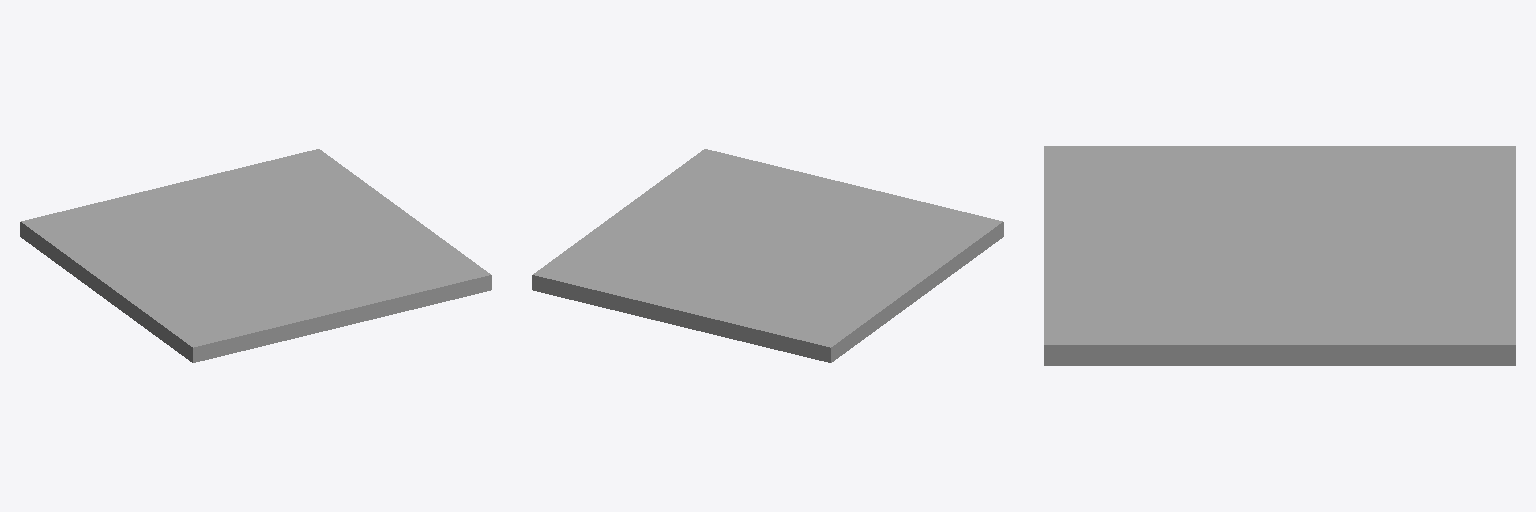
URDF robot description (panda):
<?xml version="1.0" ?>
<!-- =================================================================================== -->
<!-- |    This document was autogenerated by xacro from panda_two.urdf.xacro           | -->
<!-- |    EDITING THIS FILE BY HAND IS NOT RECOMMENDED                                 | -->
<!-- =================================================================================== -->
<robot name="panda">
  <!-- box shaped table as base for the 2 Pandas -->
  <link name="base">
    <visual>
      <origin rpy="0 0 0" xyz="0 0 0.05"/>
      <geometry>
        <box size="2 2 0.1"/>
      </geometry>
      <material name="Pastel Gray">
        <color rgba="0.7 0.7 0.7 0.2"/>
      </material>
    </visual>
    <collision>
      <origin rpy="0 0 0" xyz="0 0 0.05"/>
      <geometry>
        <box size="2 2 0.1"/>
      </geometry>
    </collision>
  </link>
  <joint name="panda0_joint_base" type="fixed">
    <parent link="base"/>
    <child link="panda0_link0"/>
    <origin rpy="0 0 -3.141592653589793" xyz="0.4 0.0 0.1"/>
  </joint>
  <link name="panda0_link0">
    <visual>
      <geometry>
        <mesh filename="package://moveit_resources_panda_description/meshes/visual/link0.dae"/>
      </geometry>
    </visual>
    <collision>
      <geometry>
        <mesh filename="package://moveit_resources_panda_description/meshes/collision/link0.stl"/>
      </geometry>
    </collision>
  </link>
  <link name="panda0_link1">
    <visual>
      <geometry>
        <mesh filename="package://moveit_resources_panda_description/meshes/visual/link1.dae"/>
      </geometry>
    </visual>
    <collision>
      <geometry>
        <mesh filename="package://moveit_resources_panda_description/meshes/collision/link1.stl"/>
      </geometry>
    </collision>
  </link>
  <joint name="panda0_joint1" type="revolute">
    <safety_controller k_position="100.0" k_velocity="40.0" soft_lower_limit="-2.8973" soft_upper_limit="2.8973"/>
    <origin rpy="0 0 0" xyz="0 0 0.333"/>
    <parent link="panda0_link0"/>
    <child link="panda0_link1"/>
    <axis xyz="0 0 1"/>
    <limit effort="87" lower="-2.9671" upper="2.9671" velocity="2.3925"/>
  </joint>
  <link name="panda0_link2">
    <visual>
      <geometry>
        <mesh filename="package://moveit_resources_panda_description/meshes/visual/link2.dae"/>
      </geometry>
    </visual>
    <collision>
      <geometry>
        <mesh filename="package://moveit_resources_panda_description/meshes/collision/link2.stl"/>
      </geometry>
    </collision>
  </link>
  <joint name="panda0_joint2" type="revolute">
    <safety_controller k_position="100.0" k_velocity="40.0" soft_lower_limit="-1.7628" soft_upper_limit="1.7628"/>
    <origin rpy="-1.5707963267948966 0 0" xyz="0 0 0"/>
    <parent link="panda0_link1"/>
    <child link="panda0_link2"/>
    <axis xyz="0 0 1"/>
    <limit effort="87" lower="-1.8326" upper="1.8326" velocity="2.3925"/>
  </joint>
  <link name="panda0_link3">
    <visual>
      <geometry>
        <mesh filename="package://moveit_resources_panda_description/meshes/visual/link3.dae"/>
      </geometry>
    </visual>
    <collision>
      <geometry>
        <mesh filename="package://moveit_resources_panda_description/meshes/collision/link3.stl"/>
      </geometry>
    </collision>
  </link>
  <joint name="panda0_joint3" type="revolute">
    <safety_controller k_position="100.0" k_velocity="40.0" soft_lower_limit="-2.8973" soft_upper_limit="2.8973"/>
    <origin rpy="1.5707963267948966 0 0" xyz="0 -0.316 0"/>
    <parent link="panda0_link2"/>
    <child link="panda0_link3"/>
    <axis xyz="0 0 1"/>
    <limit effort="87" lower="-2.9671" upper="2.9671" velocity="2.3925"/>
  </joint>
  <link name="panda0_link4">
    <visual>
      <geometry>
        <mesh filename="package://moveit_resources_panda_description/meshes/visual/link4.dae"/>
      </geometry>
    </visual>
    <collision>
      <geometry>
        <mesh filename="package://moveit_resources_panda_description/meshes/collision/link4.stl"/>
      </geometry>
    </collision>
  </link>
  <joint name="panda0_joint4" type="revolute">
    <safety_controller k_position="100.0" k_velocity="40.0" soft_lower_limit="-3.0718" soft_upper_limit="0.0175"/>
    <origin rpy="1.5707963267948966 0 0" xyz="0.0825 0 0"/>
    <parent link="panda0_link3"/>
    <child link="panda0_link4"/>
    <axis xyz="0 0 1"/>
    <limit effort="87" lower="-3.1416" upper="0.0873" velocity="2.3925"/>
  </joint>
  <link name="panda0_link5">
    <visual>
      <geometry>
        <mesh filename="package://moveit_resources_panda_description/meshes/visual/link5.dae"/>
      </geometry>
    </visual>
    <collision>
      <geometry>
        <mesh filename="package://moveit_resources_panda_description/meshes/collision/link5.stl"/>
      </geometry>
    </collision>
  </link>
  <joint name="panda0_joint5" type="revolute">
    <safety_controller k_position="100.0" k_velocity="40.0" soft_lower_limit="-2.8973" soft_upper_limit="2.8973"/>
    <origin rpy="-1.5707963267948966 0 0" xyz="-0.0825 0.384 0"/>
    <parent link="panda0_link4"/>
    <child link="panda0_link5"/>
    <axis xyz="0 0 1"/>
    <limit effort="12" lower="-2.9671" upper="2.9671" velocity="2.8710"/>
  </joint>
  <link name="panda0_link6">
    <visual>
      <geometry>
        <mesh filename="package://moveit_resources_panda_description/meshes/visual/link6.dae"/>
      </geometry>
    </visual>
    <collision>
      <geometry>
        <mesh filename="package://moveit_resources_panda_description/meshes/collision/link6.stl"/>
      </geometry>
    </collision>
  </link>
  <joint name="panda0_joint6" type="revolute">
    <safety_controller k_position="100.0" k_velocity="40.0" soft_lower_limit="-0.0175" soft_upper_limit="3.7525"/>
    <origin rpy="1.5707963267948966 0 0" xyz="0 0 0"/>
    <parent link="panda0_link5"/>
    <child link="panda0_link6"/>
    <axis xyz="0 0 1"/>
    <limit effort="12" lower="-0.0873" upper="3.8223" velocity="2.8710"/>
  </joint>
  <link name="panda0_link7">
    <visual>
      <geometry>
        <mesh filename="package://moveit_resources_panda_description/meshes/visual/link7.dae"/>
      </geometry>
    </visual>
    <collision>
      <geometry>
        <mesh filename="package://moveit_resources_panda_description/meshes/collision/link7.stl"/>
      </geometry>
    </collision>
  </link>
  <joint name="panda0_joint7" type="revolute">
    <safety_controller k_position="100.0" k_velocity="40.0" soft_lower_limit="-2.8973" soft_upper_limit="2.8973"/>
    <origin rpy="1.5707963267948966 0 0" xyz="0.088 0 0"/>
    <parent link="panda0_link6"/>
    <child link="panda0_link7"/>
    <axis xyz="0 0 1"/>
    <limit effort="12" lower="-2.9671" upper="2.9671" velocity="2.8710"/>
  </joint>
  <link name="panda0_link8"/>
  <joint name="panda0_joint8" type="fixed">
    <origin rpy="0 0 0" xyz="0 0 0.107"/>
    <parent link="panda0_link7"/>
    <child link="panda0_link8"/>
    <axis xyz="0 0 0"/>
  </joint>
  <joint name="panda0_hand_joint" type="fixed">
    <parent link="panda0_link8"/>
    <child link="panda0_hand"/>
    <origin rpy="0 0 0" xyz="0 0 0"/>
  </joint>
  <link name="panda0_hand">
    <visual>
      <geometry>
        <mesh filename="package://moveit_resources_panda_description/meshes/visual/hand.dae"/>
      </geometry>
    </visual>
    <collision>
      <geometry>
        <mesh filename="package://moveit_resources_panda_description/meshes/collision/hand.stl"/>
      </geometry>
    </collision>
  </link>
  <link name="panda0_leftfinger">
    <visual>
      <geometry>
        <mesh filename="package://moveit_resources_panda_description/meshes/visual/finger.dae"/>
      </geometry>
    </visual>
    <collision>
      <geometry>
        <mesh filename="package://moveit_resources_panda_description/meshes/collision/finger.stl"/>
      </geometry>
    </collision>
  </link>
  <link name="panda0_rightfinger">
    <visual>
      <origin rpy="0 0 3.141592653589793" xyz="0 0 0"/>
      <geometry>
        <mesh filename="package://moveit_resources_panda_description/meshes/visual/finger.dae"/>
      </geometry>
    </visual>
    <collision>
      <origin rpy="0 0 3.141592653589793" xyz="0 0 0"/>
      <geometry>
        <mesh filename="package://moveit_resources_panda_description/meshes/collision/finger.stl"/>
      </geometry>
    </collision>
  </link>
  <joint name="panda0_finger_joint1" type="prismatic">
    <parent link="panda0_hand"/>
    <child link="panda0_leftfinger"/>
    <origin rpy="0 0 0" xyz="0 0 0.0584"/>
    <axis xyz="0 1 0"/>
    <limit effort="20" lower="0.0" upper="0.04" velocity="0.2"/>
  </joint>
  <joint name="panda0_finger_joint2" type="prismatic">
    <parent link="panda0_hand"/>
    <child link="panda0_rightfinger"/>
    <origin rpy="0 0 0" xyz="0 0 0.0584"/>
    <axis xyz="0 -1 0"/>
    <limit effort="20" lower="0.0" upper="0.04" velocity="0.2"/>
    <mimic joint="panda0_finger_joint1"/>
  </joint>
  <joint name="panda1_joint_base" type="fixed">
    <parent link="base"/>
    <child link="panda1_link0"/>
    <origin rpy="0 0 0" xyz="-0.4 0.0 0.1"/>
  </joint>
  <link name="panda1_link0">
    <visual>
      <geometry>
        <mesh filename="package://moveit_resources_panda_description/meshes/visual/link0.dae"/>
      </geometry>
    </visual>
    <collision>
      <geometry>
        <mesh filename="package://moveit_resources_panda_description/meshes/collision/link0.stl"/>
      </geometry>
    </collision>
  </link>
  <link name="panda1_link1">
    <visual>
      <geometry>
        <mesh filename="package://moveit_resources_panda_description/meshes/visual/link1.dae"/>
      </geometry>
    </visual>
    <collision>
      <geometry>
        <mesh filename="package://moveit_resources_panda_description/meshes/collision/link1.stl"/>
      </geometry>
    </collision>
  </link>
  <joint name="panda1_joint1" type="revolute">
    <safety_controller k_position="100.0" k_velocity="40.0" soft_lower_limit="-2.8973" soft_upper_limit="2.8973"/>
    <origin rpy="0 0 0" xyz="0 0 0.333"/>
    <parent link="panda1_link0"/>
    <child link="panda1_link1"/>
    <axis xyz="0 0 1"/>
    <limit effort="87" lower="-2.9671" upper="2.9671" velocity="2.3925"/>
  </joint>
  <link name="panda1_link2">
    <visual>
      <geometry>
        <mesh filename="package://moveit_resources_panda_description/meshes/visual/link2.dae"/>
      </geometry>
    </visual>
    <collision>
      <geometry>
        <mesh filename="package://moveit_resources_panda_description/meshes/collision/link2.stl"/>
      </geometry>
    </collision>
  </link>
  <joint name="panda1_joint2" type="revolute">
    <safety_controller k_position="100.0" k_velocity="40.0" soft_lower_limit="-1.7628" soft_upper_limit="1.7628"/>
    <origin rpy="-1.5707963267948966 0 0" xyz="0 0 0"/>
    <parent link="panda1_link1"/>
    <child link="panda1_link2"/>
    <axis xyz="0 0 1"/>
    <limit effort="87" lower="-1.8326" upper="1.8326" velocity="2.3925"/>
  </joint>
  <link name="panda1_link3">
    <visual>
      <geometry>
        <mesh filename="package://moveit_resources_panda_description/meshes/visual/link3.dae"/>
      </geometry>
    </visual>
    <collision>
      <geometry>
        <mesh filename="package://moveit_resources_panda_description/meshes/collision/link3.stl"/>
      </geometry>
    </collision>
  </link>
  <joint name="panda1_joint3" type="revolute">
    <safety_controller k_position="100.0" k_velocity="40.0" soft_lower_limit="-2.8973" soft_upper_limit="2.8973"/>
    <origin rpy="1.5707963267948966 0 0" xyz="0 -0.316 0"/>
    <parent link="panda1_link2"/>
    <child link="panda1_link3"/>
    <axis xyz="0 0 1"/>
    <limit effort="87" lower="-2.9671" upper="2.9671" velocity="2.3925"/>
  </joint>
  <link name="panda1_link4">
    <visual>
      <geometry>
        <mesh filename="package://moveit_resources_panda_description/meshes/visual/link4.dae"/>
      </geometry>
    </visual>
    <collision>
      <geometry>
        <mesh filename="package://moveit_resources_panda_description/meshes/collision/link4.stl"/>
      </geometry>
    </collision>
  </link>
  <joint name="panda1_joint4" type="revolute">
    <safety_controller k_position="100.0" k_velocity="40.0" soft_lower_limit="-3.0718" soft_upper_limit="0.0175"/>
    <origin rpy="1.5707963267948966 0 0" xyz="0.0825 0 0"/>
    <parent link="panda1_link3"/>
    <child link="panda1_link4"/>
    <axis xyz="0 0 1"/>
    <limit effort="87" lower="-3.1416" upper="0.0873" velocity="2.3925"/>
  </joint>
  <link name="panda1_link5">
    <visual>
      <geometry>
        <mesh filename="package://moveit_resources_panda_description/meshes/visual/link5.dae"/>
      </geometry>
    </visual>
    <collision>
      <geometry>
        <mesh filename="package://moveit_resources_panda_description/meshes/collision/link5.stl"/>
      </geometry>
    </collision>
  </link>
  <joint name="panda1_joint5" type="revolute">
    <safety_controller k_position="100.0" k_velocity="40.0" soft_lower_limit="-2.8973" soft_upper_limit="2.8973"/>
    <origin rpy="-1.5707963267948966 0 0" xyz="-0.0825 0.384 0"/>
    <parent link="panda1_link4"/>
    <child link="panda1_link5"/>
    <axis xyz="0 0 1"/>
    <limit effort="12" lower="-2.9671" upper="2.9671" velocity="2.8710"/>
  </joint>
  <link name="panda1_link6">
    <visual>
      <geometry>
        <mesh filename="package://moveit_resources_panda_description/meshes/visual/link6.dae"/>
      </geometry>
    </visual>
    <collision>
      <geometry>
        <mesh filename="package://moveit_resources_panda_description/meshes/collision/link6.stl"/>
      </geometry>
    </collision>
  </link>
  <joint name="panda1_joint6" type="revolute">
    <safety_controller k_position="100.0" k_velocity="40.0" soft_lower_limit="-0.0175" soft_upper_limit="3.7525"/>
    <origin rpy="1.5707963267948966 0 0" xyz="0 0 0"/>
    <parent link="panda1_link5"/>
    <child link="panda1_link6"/>
    <axis xyz="0 0 1"/>
    <limit effort="12" lower="-0.0873" upper="3.8223" velocity="2.8710"/>
  </joint>
  <link name="panda1_link7">
    <visual>
      <geometry>
        <mesh filename="package://moveit_resources_panda_description/meshes/visual/link7.dae"/>
      </geometry>
    </visual>
    <collision>
      <geometry>
        <mesh filename="package://moveit_resources_panda_description/meshes/collision/link7.stl"/>
      </geometry>
    </collision>
  </link>
  <joint name="panda1_joint7" type="revolute">
    <safety_controller k_position="100.0" k_velocity="40.0" soft_lower_limit="-2.8973" soft_upper_limit="2.8973"/>
    <origin rpy="1.5707963267948966 0 0" xyz="0.088 0 0"/>
    <parent link="panda1_link6"/>
    <child link="panda1_link7"/>
    <axis xyz="0 0 1"/>
    <limit effort="12" lower="-2.9671" upper="2.9671" velocity="2.8710"/>
  </joint>
  <link name="panda1_link8"/>
  <joint name="panda1_joint8" type="fixed">
    <origin rpy="0 0 0" xyz="0 0 0.107"/>
    <parent link="panda1_link7"/>
    <child link="panda1_link8"/>
    <axis xyz="0 0 0"/>
  </joint>
  <joint name="panda1_hand_joint" type="fixed">
    <parent link="panda1_link8"/>
    <child link="panda1_hand"/>
    <origin rpy="0 0 0" xyz="0 0 0"/>
  </joint>
  <link name="panda1_hand">
    <visual>
      <geometry>
        <mesh filename="package://moveit_resources_panda_description/meshes/visual/hand.dae"/>
      </geometry>
    </visual>
    <collision>
      <geometry>
        <mesh filename="package://moveit_resources_panda_description/meshes/collision/hand.stl"/>
      </geometry>
    </collision>
  </link>
  <link name="panda1_leftfinger">
    <visual>
      <geometry>
        <mesh filename="package://moveit_resources_panda_description/meshes/visual/finger.dae"/>
      </geometry>
    </visual>
    <collision>
      <geometry>
        <mesh filename="package://moveit_resources_panda_description/meshes/collision/finger.stl"/>
      </geometry>
    </collision>
  </link>
  <link name="panda1_rightfinger">
    <visual>
      <origin rpy="0 0 3.141592653589793" xyz="0 0 0"/>
      <geometry>
        <mesh filename="package://moveit_resources_panda_description/meshes/visual/finger.dae"/>
      </geometry>
    </visual>
    <collision>
      <origin rpy="0 0 3.141592653589793" xyz="0 0 0"/>
      <geometry>
        <mesh filename="package://moveit_resources_panda_description/meshes/collision/finger.stl"/>
      </geometry>
    </collision>
  </link>
  <joint name="panda1_finger_joint1" type="prismatic">
    <parent link="panda1_hand"/>
    <child link="panda1_leftfinger"/>
    <origin rpy="0 0 0" xyz="0 0 0.0584"/>
    <axis xyz="0 1 0"/>
    <limit effort="20" lower="0.0" upper="0.04" velocity="0.2"/>
  </joint>
  <joint name="panda1_finger_joint2" type="prismatic">
    <parent link="panda1_hand"/>
    <child link="panda1_rightfinger"/>
    <origin rpy="0 0 0" xyz="0 0 0.0584"/>
    <axis xyz="0 -1 0"/>
    <limit effort="20" lower="0.0" upper="0.04" velocity="0.2"/>
    <mimic joint="panda1_finger_joint1"/>
  </joint>
</robot>

--- What the picture shows (computed from the rendered views, not written in the file) ---
The picture shows the robot from 3 angles, left to right: view 1: azimuth 30°, elevation 25°; view 2: azimuth 150°, elevation 25°; view 3: azimuth 270°, elevation 25°; orthographic projection.
Robot: panda — 25 links, 24 joints (14 revolute, 4 prismatic, 6 fixed); root link base; default pose: all joints at 0.
Links seen in each view (by area): view 1: base; view 2: base; view 3: base.
Boxes of the visible links, box(x1,y1,x2,y2) form: base: box(20, 149, 491, 362); base: box(532, 149, 1003, 362); base: box(1044, 146, 1515, 365).
Bounding box of the posed robot: 2 × 2 × 0.1 m (x, y, z).
Meshes: 10 distinct files referenced, 0 mesh visuals loaded (none loaded); not drawn: 22 (reference not matched to a file when rendering).